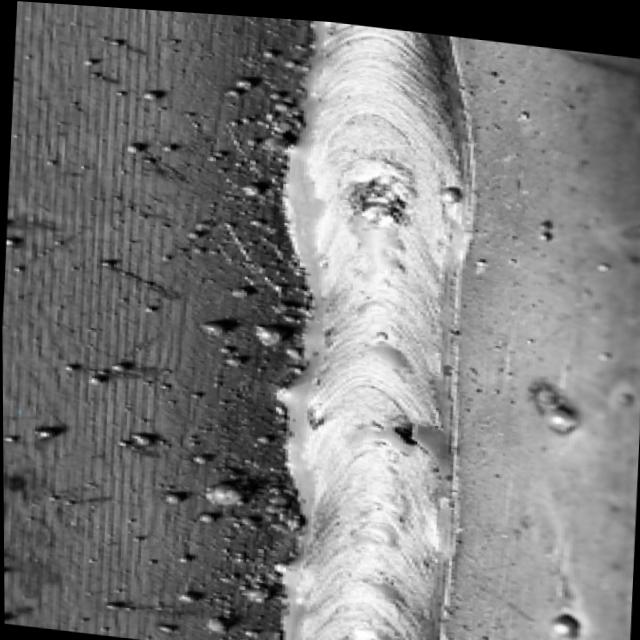Dry: (143, 7, 524, 640)
